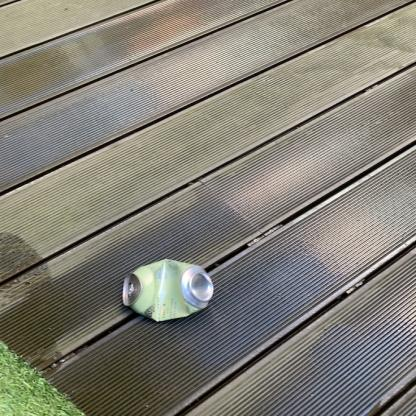Aerosols: (109, 251, 218, 326)
